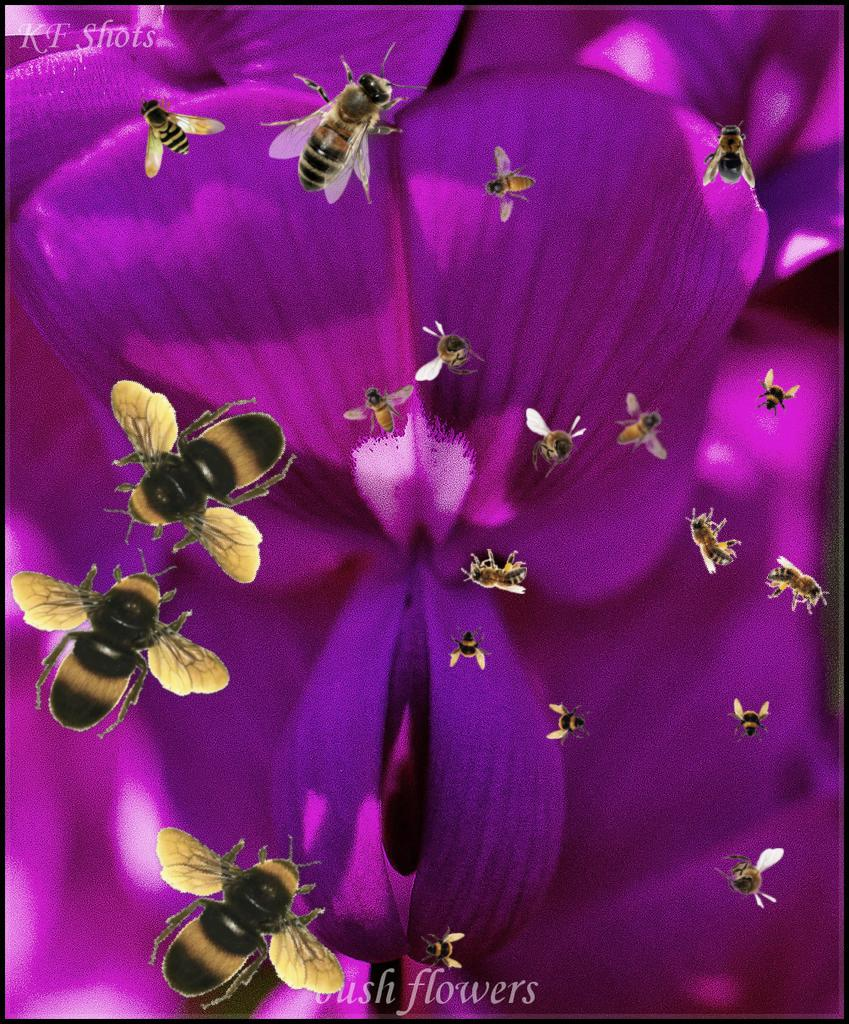Bee: (46, 332, 334, 609), (117, 801, 379, 1024), (11, 548, 231, 739), (260, 42, 427, 204), (138, 96, 226, 178), (673, 496, 749, 577), (473, 145, 543, 228), (758, 554, 838, 623), (611, 388, 669, 465), (526, 408, 587, 478), (714, 848, 784, 909), (415, 320, 485, 381), (744, 364, 804, 424), (343, 384, 414, 434), (703, 120, 755, 188), (461, 549, 527, 594), (727, 698, 771, 742), (546, 702, 590, 746), (448, 626, 492, 670), (421, 926, 465, 970)
